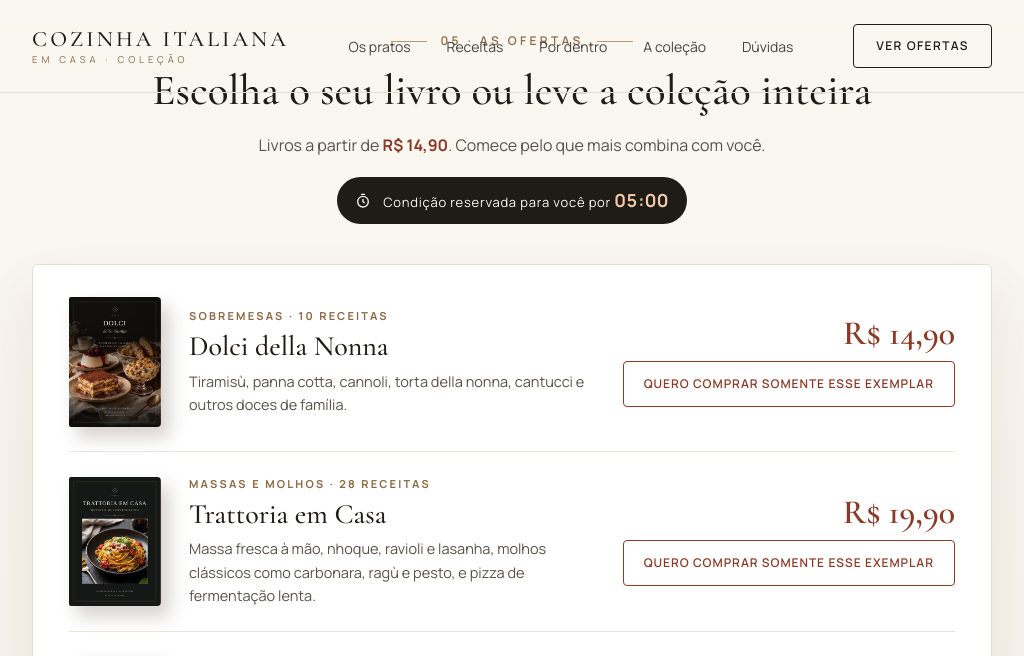
Test case: NORQVA-0076 — lista de livros, contagem e botão do kit › "somente esse exemplar" abre o pagamento já nos avulsos com o livro marcado
(page scrolled)
Click the button with test id "kit-book-buy-dolci" at (789, 384), box [623,361,955,407]
(page scrolled)
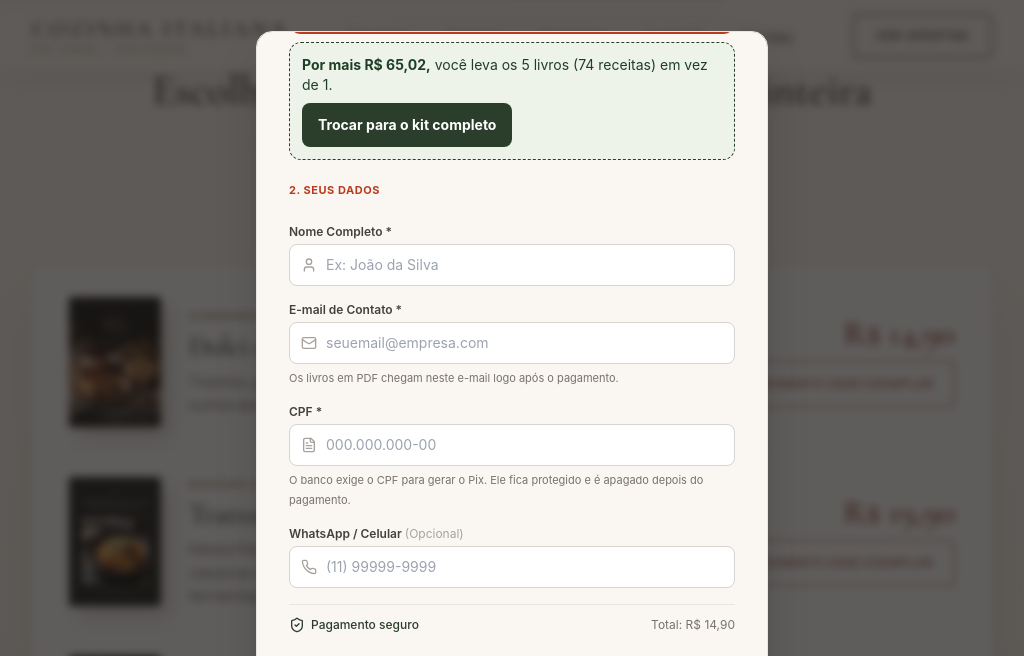
Check: the text with test id "checkout-total" shows "R$ 14,90", box [651,617,735,633]
